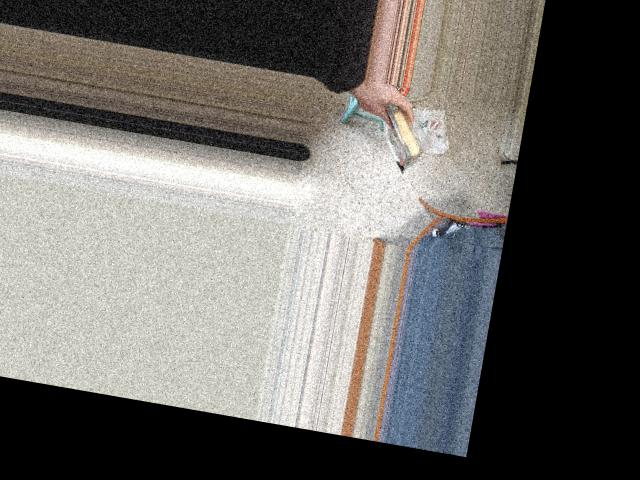cheese: (368, 86, 434, 177)
